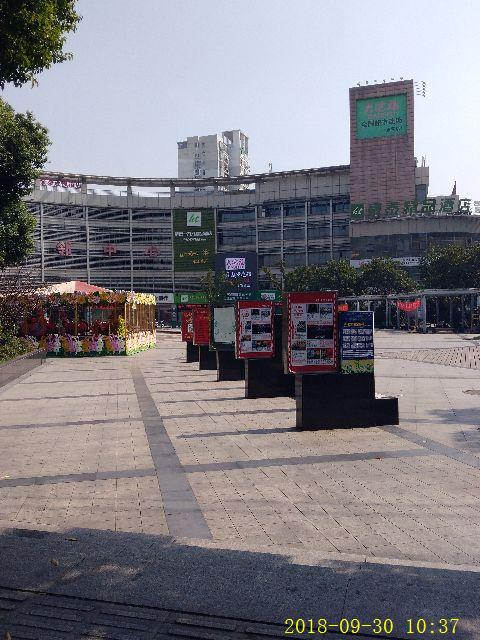multi_signs: (282, 290, 338, 375), (235, 301, 276, 359)
window_shielding: (347, 197, 473, 220), (53, 240, 161, 260)
